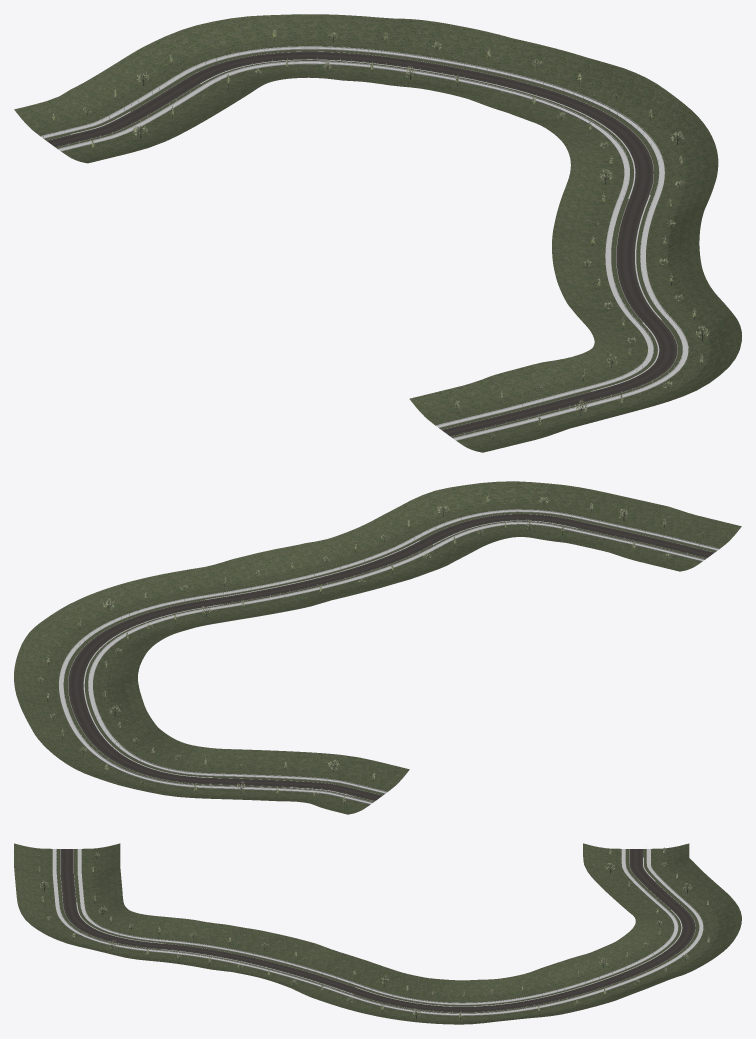
3 views of the same model, one above another, from view 1: azimuth 30°, elevation 25°; view 2: azimuth 150°, elevation 25°; view 3: azimuth 270°, elevation 25° (orthographic). The views are drawn at different scales.
Parts seen in each view (by area): view 1: Grass, Road, Track, Trees, Curbs; view 2: Grass, Road, Track, Trees, Curbs; view 3: Grass, Road, Track, Trees, Curbs.
Boxes of the visible parts, x1,y1,x2,y2 form: Grass: [14, 14, 741, 452]; Road: [46, 51, 677, 436]; Track: [40, 46, 688, 440]; Trees: [52, 28, 709, 439]; Curbs: [70, 59, 661, 391]; Grass: [14, 481, 741, 814]; Road: [68, 514, 714, 800]; Track: [59, 509, 719, 804]; Trees: [36, 494, 704, 804]; Curbs: [84, 520, 577, 796]; Grass: [14, 843, 741, 1024]; Road: [60, 849, 695, 1012]; Track: [52, 846, 703, 1015]; Trees: [38, 847, 717, 1019]; Curbs: [76, 857, 681, 1006].
Size of what is drawn, in the model's own units: 55980 by 2254 by 95932.
